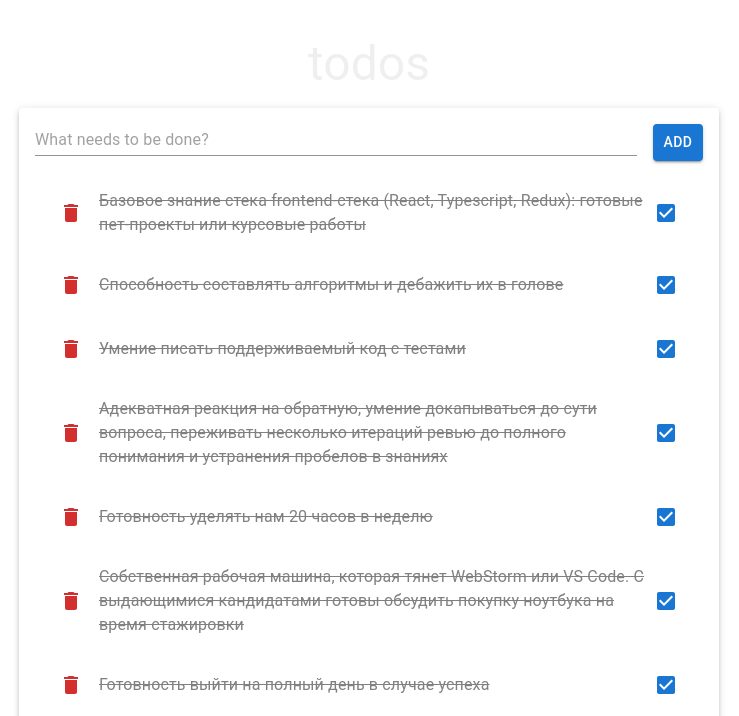
Test: App (ключевая функциональность) › корректно считает оставшиеся задачи
Type "Еще одна задача" into the field with placeholder "What needs to be done?".
click(336, 140); type("Еще одна задача")  # box [35,124,637,156]
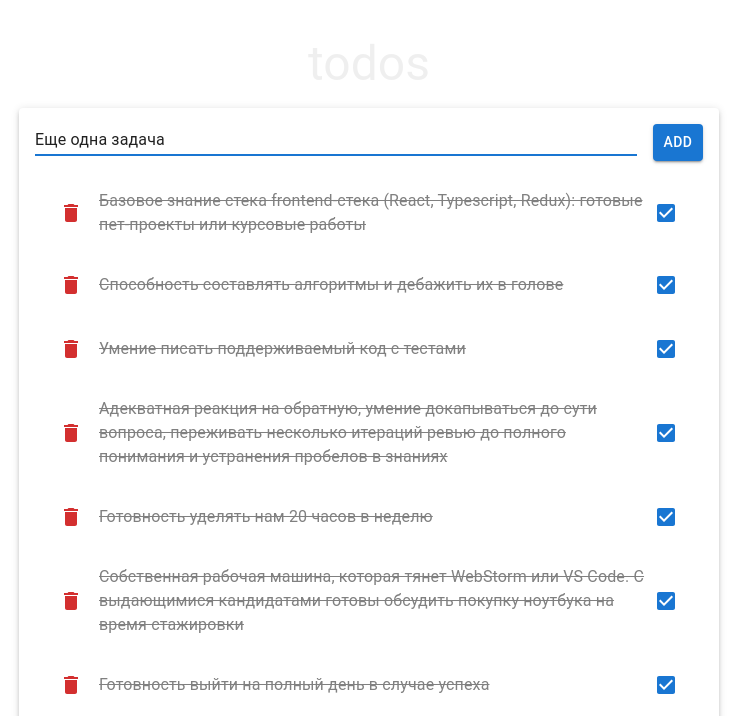
Click the button "add".
click(678, 142)  # box [653,124,703,160]
(page scrolled)
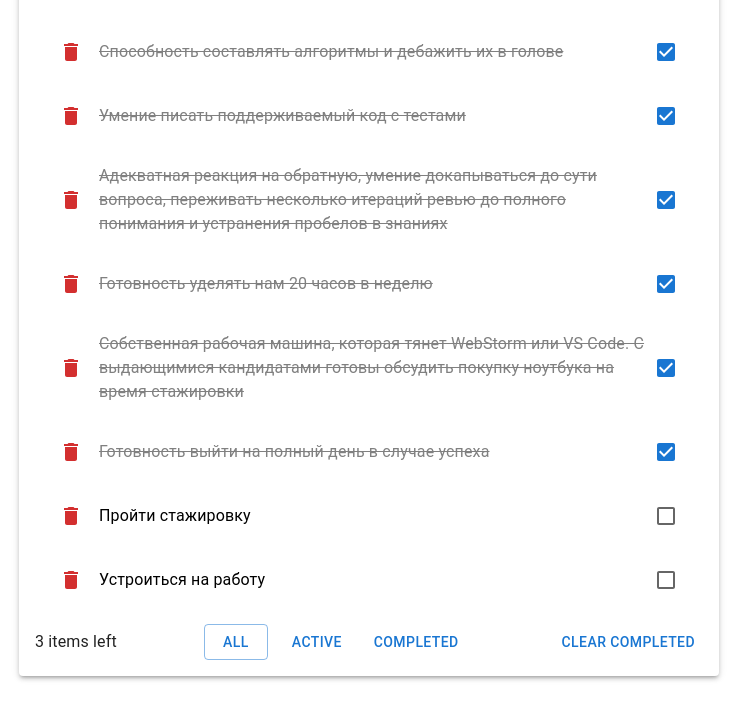
Now the text "3 items left" is shown, box [35,630,117,654]
